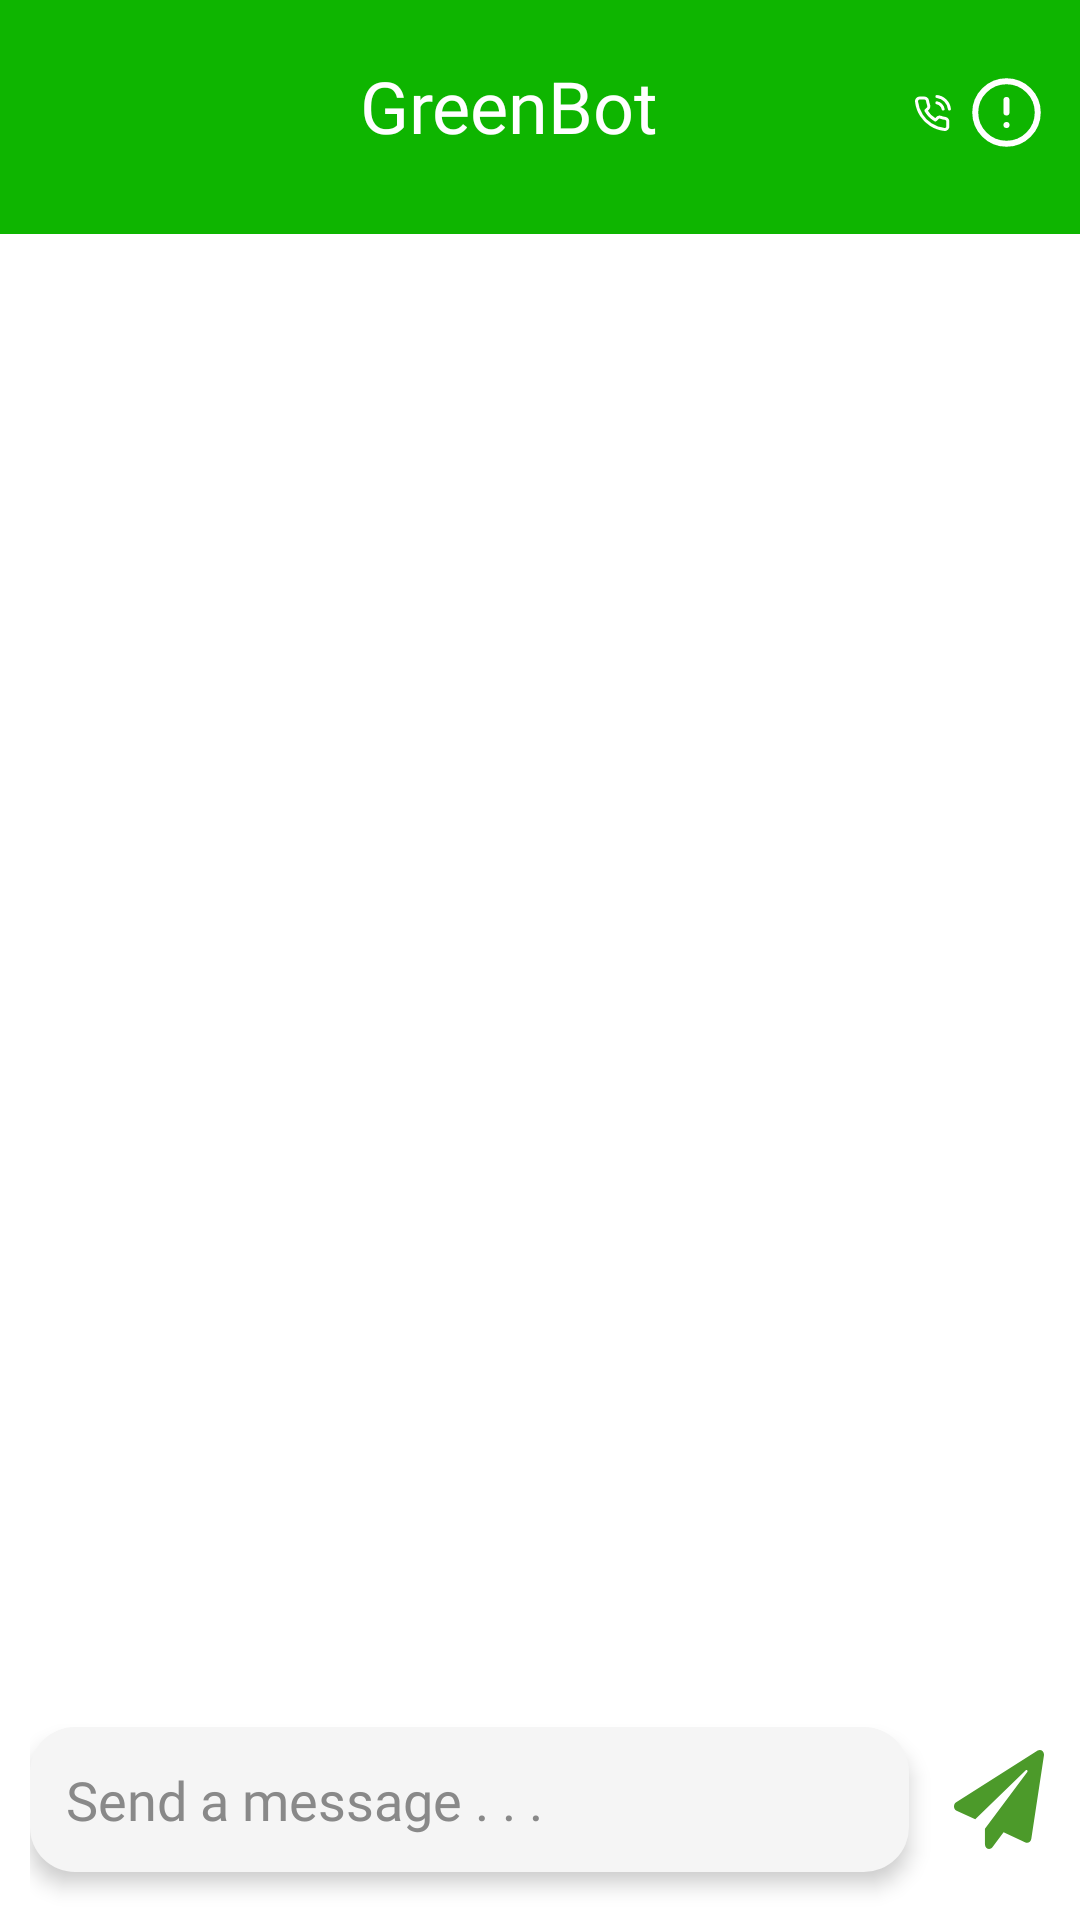

Icons on this 1080px x 1920px Android screen, each with its box as (x1=x1, y1=y1, x2=x2, y2=y2):
newinfo: (x1=972, y1=78, x2=1041, y2=147)
newsent: (x1=954, y1=1750, x2=1044, y2=1849)
phone: (x1=915, y1=95, x2=951, y2=131)
